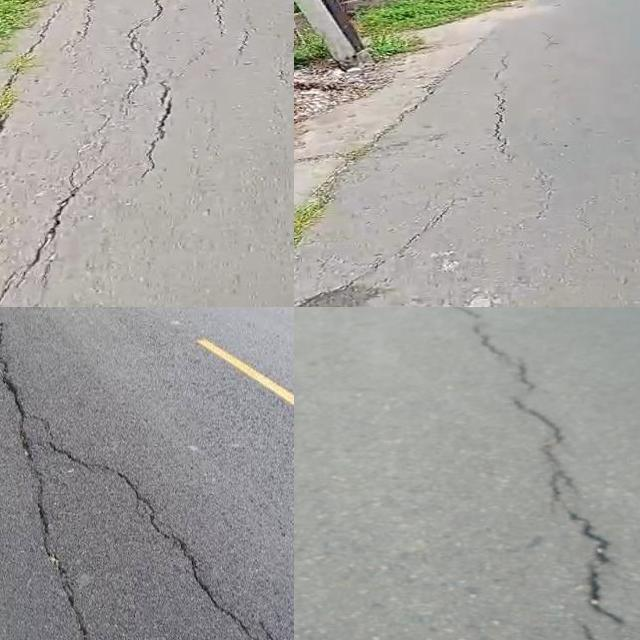Memanjang: (428, 307, 625, 640), (51, 423, 290, 640), (0, 307, 97, 640), (0, 155, 107, 307), (481, 48, 518, 172)
